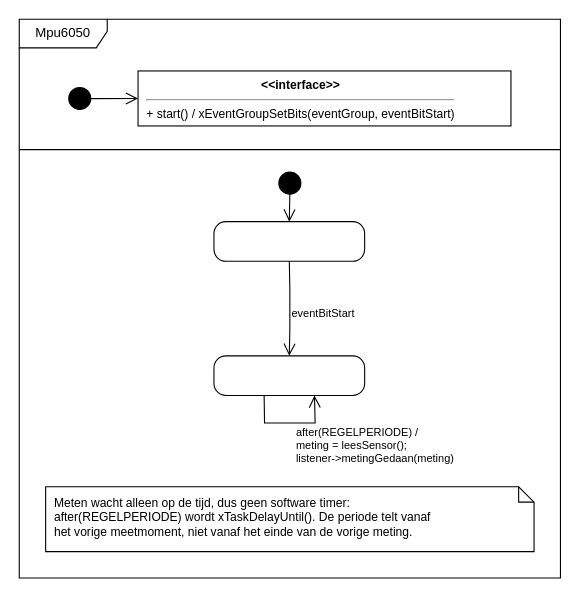
This 580x597 diagram has some shape labels left out. The box of each missing label's shape, as (x1, y1, x2, y2) in pixels:
Meten: (213, 355, 365, 395)
Uit: (213, 221, 365, 261)
